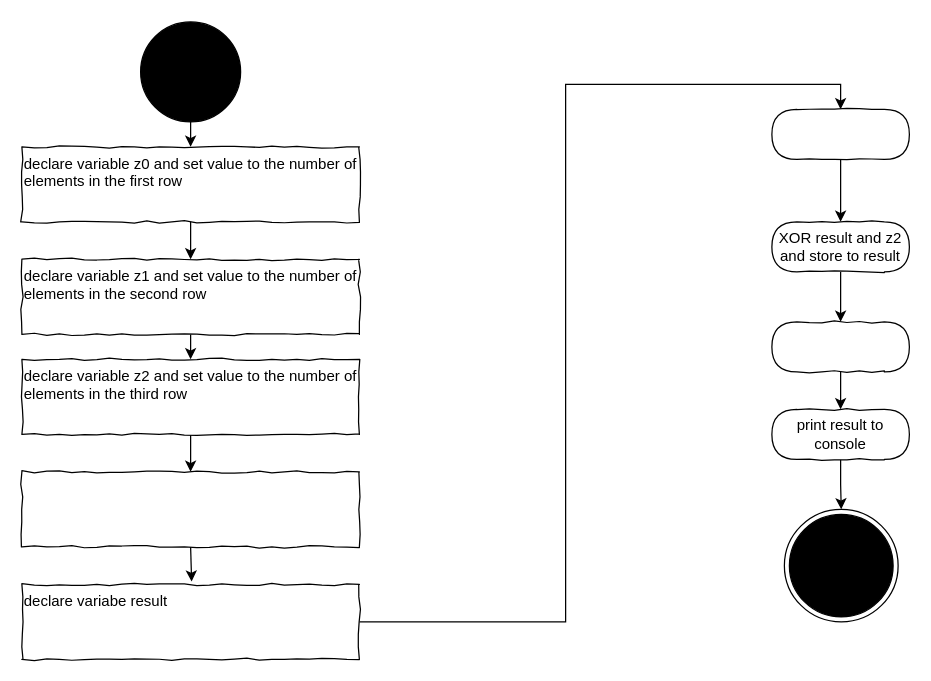
Some shapes in this 931 by 681 pixel diagram are drawn without their labels. Each missing label, with the centre of its shape:
"declare variable z3 and set value to the number of elements in the fourth row" goes at (190,509).
"XOR result and z3 and store to result" goes at (840,346).
"XOR z0 and z1 and store to result" goes at (840,133).
